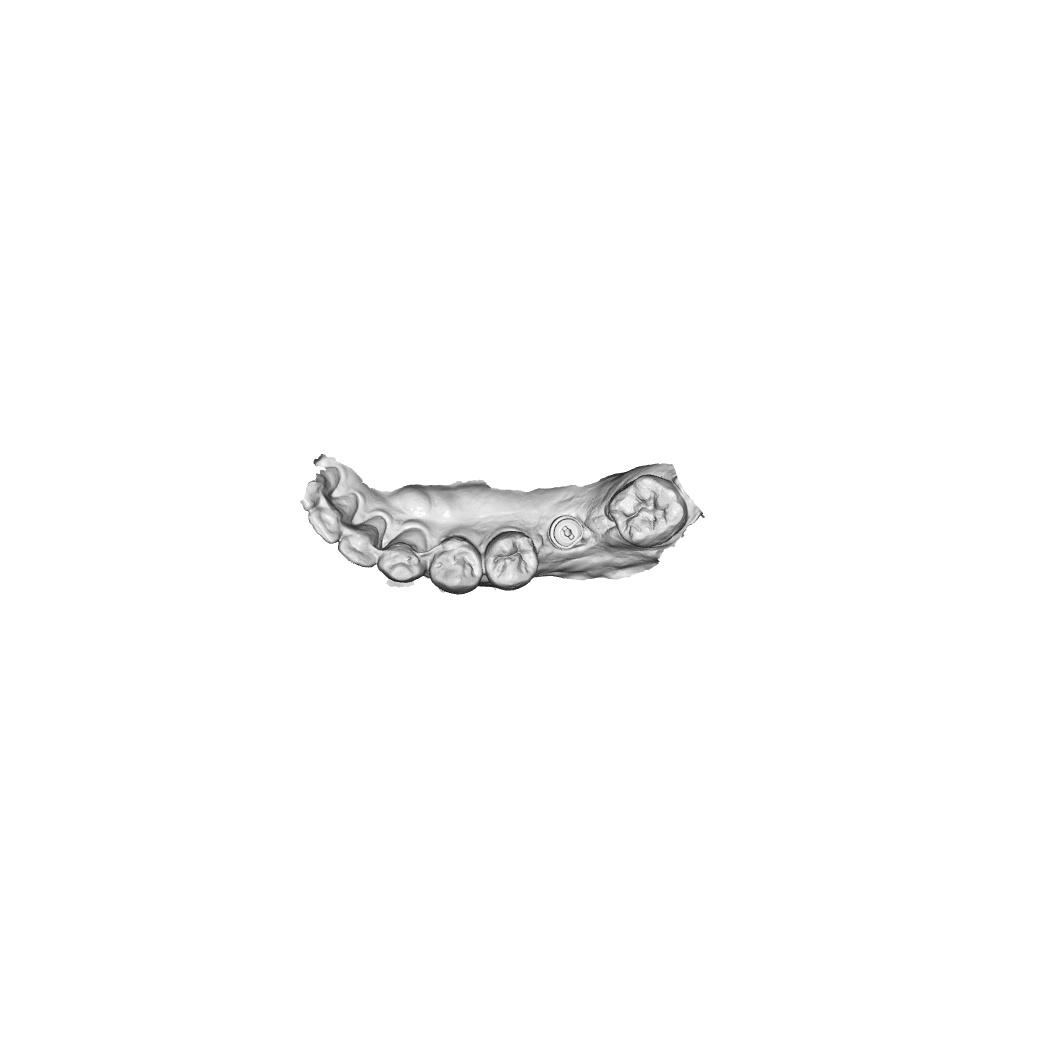canine: (377, 525, 429, 584)
implant_minus: (547, 514, 586, 551)
incisor: (306, 492, 359, 545), (337, 515, 387, 569)
molar: (606, 473, 689, 548)
premolar: (483, 529, 540, 592), (428, 535, 484, 596)
